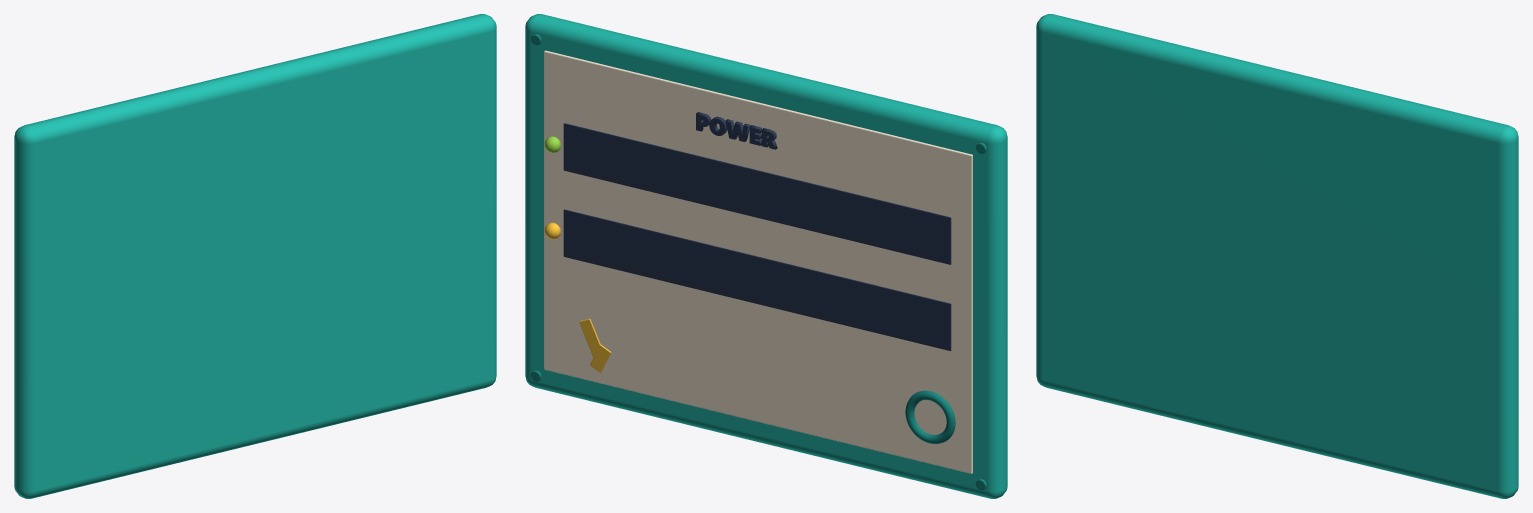
The model's file is PowerBoard.fbx.
The picture shows the model from 3 angles, left to right: view 1: azimuth 30°, elevation 25°; view 2: azimuth 150°, elevation 25°; view 3: azimuth 330°, elevation 25°; orthographic projection.
Visible parts, largest first — view 1: PowerBoard mesh; view 2: PowerBoard mesh; view 3: PowerBoard mesh.
Part boxes in pixels (x1,y1,x2,y2): PowerBoard mesh: (14, 14, 496, 498); PowerBoard mesh: (525, 14, 1007, 498); PowerBoard mesh: (1036, 14, 1518, 498).
Size of the model in its own units: 1.16 by 0.86 by 0.088.
